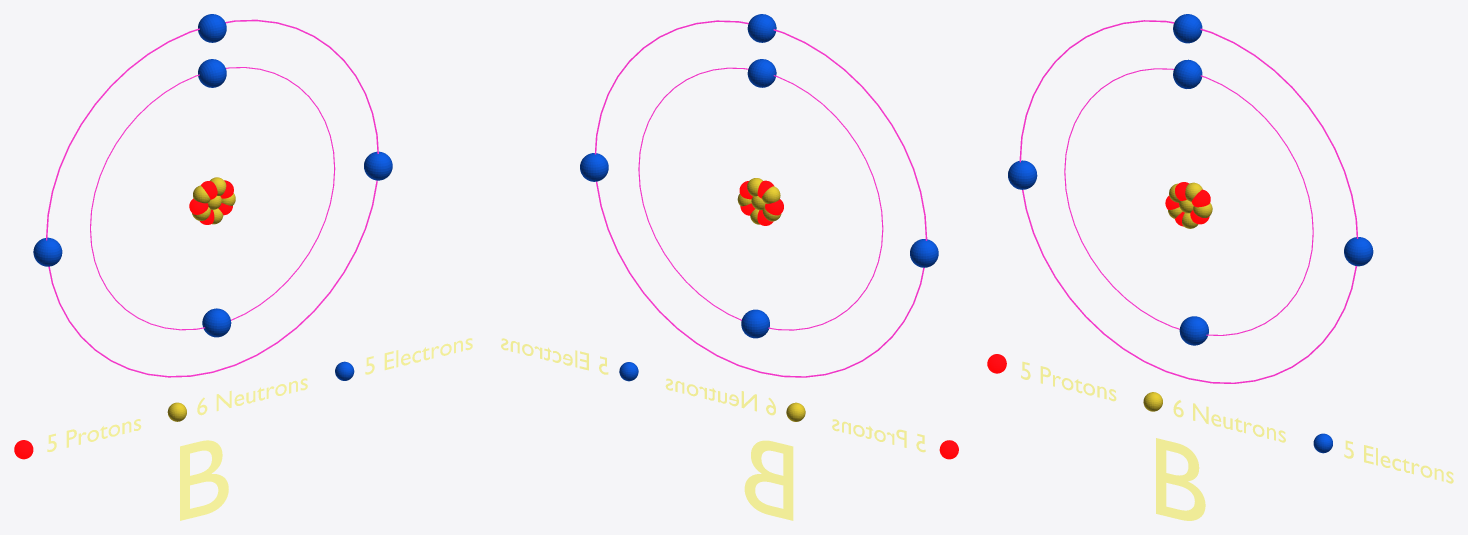
Rendered from boron.glb.
3 views of the same model, side by side, from view 1: azimuth 30°, elevation 25°; view 2: azimuth 150°, elevation 25°; view 3: azimuth 330°, elevation 25° (orthographic).
Parts seen in each view (by area): view 1: Text, BézierCircle.001, BézierCircle, Text.002, Text.003, Sphere.016, Sphere.001, Sphere.009, Sphere.002, Sphere.015, Text.001; view 2: Text, BézierCircle.001, BézierCircle, Text.002, Text.003, Sphere.002, Sphere.001, Sphere.015, Sphere.016, Sphere.009, Text.001; view 3: Text, BézierCircle.001, BézierCircle, Text.002, Text.003, Sphere.001, Sphere.015, Sphere.009, Sphere.016, Sphere.002, Text.001.
Part boxes in pixels (x1,y1,x2,y2): Text: (180, 440, 228, 520); BézierCircle.001: (46, 19, 378, 377); BézierCircle: (90, 67, 335, 330); Text.002: (197, 378, 307, 415); Text.003: (365, 338, 472, 374); Sphere.016: (33, 237, 62, 266); Sphere.001: (202, 308, 231, 337); Sphere.009: (364, 151, 392, 180); Sphere.002: (198, 59, 226, 87); Sphere.015: (198, 14, 226, 42); Text.001: (47, 419, 141, 451); Text: (744, 440, 793, 520); BézierCircle.001: (594, 20, 927, 377); BézierCircle: (638, 67, 883, 330); Text.002: (665, 378, 775, 415); Text.003: (501, 338, 608, 374); Sphere.002: (747, 59, 776, 87); Sphere.001: (741, 309, 769, 338); Sphere.015: (747, 14, 776, 42); Sphere.016: (910, 239, 938, 267); Sphere.009: (580, 153, 608, 181); Text.001: (832, 419, 925, 452); Text: (1156, 438, 1205, 520); BézierCircle.001: (1019, 20, 1358, 383); BézierCircle: (1064, 68, 1313, 335); Text.002: (1173, 400, 1285, 442); Text.003: (1344, 440, 1453, 483); Sphere.001: (1179, 316, 1208, 345); Sphere.015: (1173, 14, 1202, 43); Sphere.009: (1344, 237, 1373, 266); Sphere.016: (1008, 160, 1037, 189); Sphere.002: (1173, 59, 1202, 88); Text.001: (1021, 361, 1116, 401).
Bounding box in the file's own units: 4.37 × 4.55 × 0.2564.
